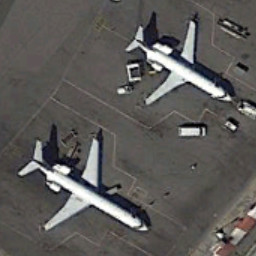Airplane: (16, 131, 158, 245), (118, 11, 239, 117)
